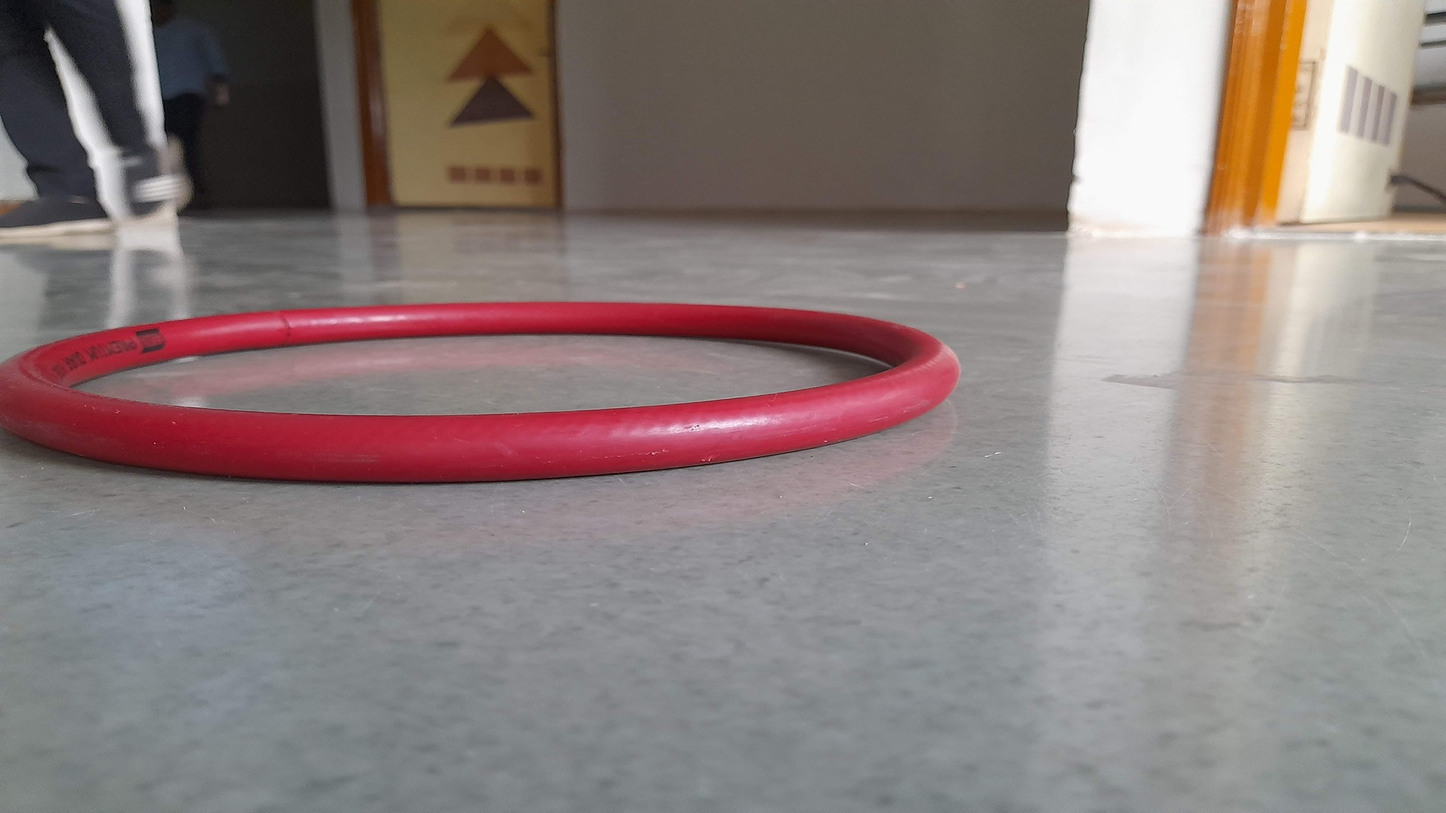Red ring: (8, 300, 959, 479)
